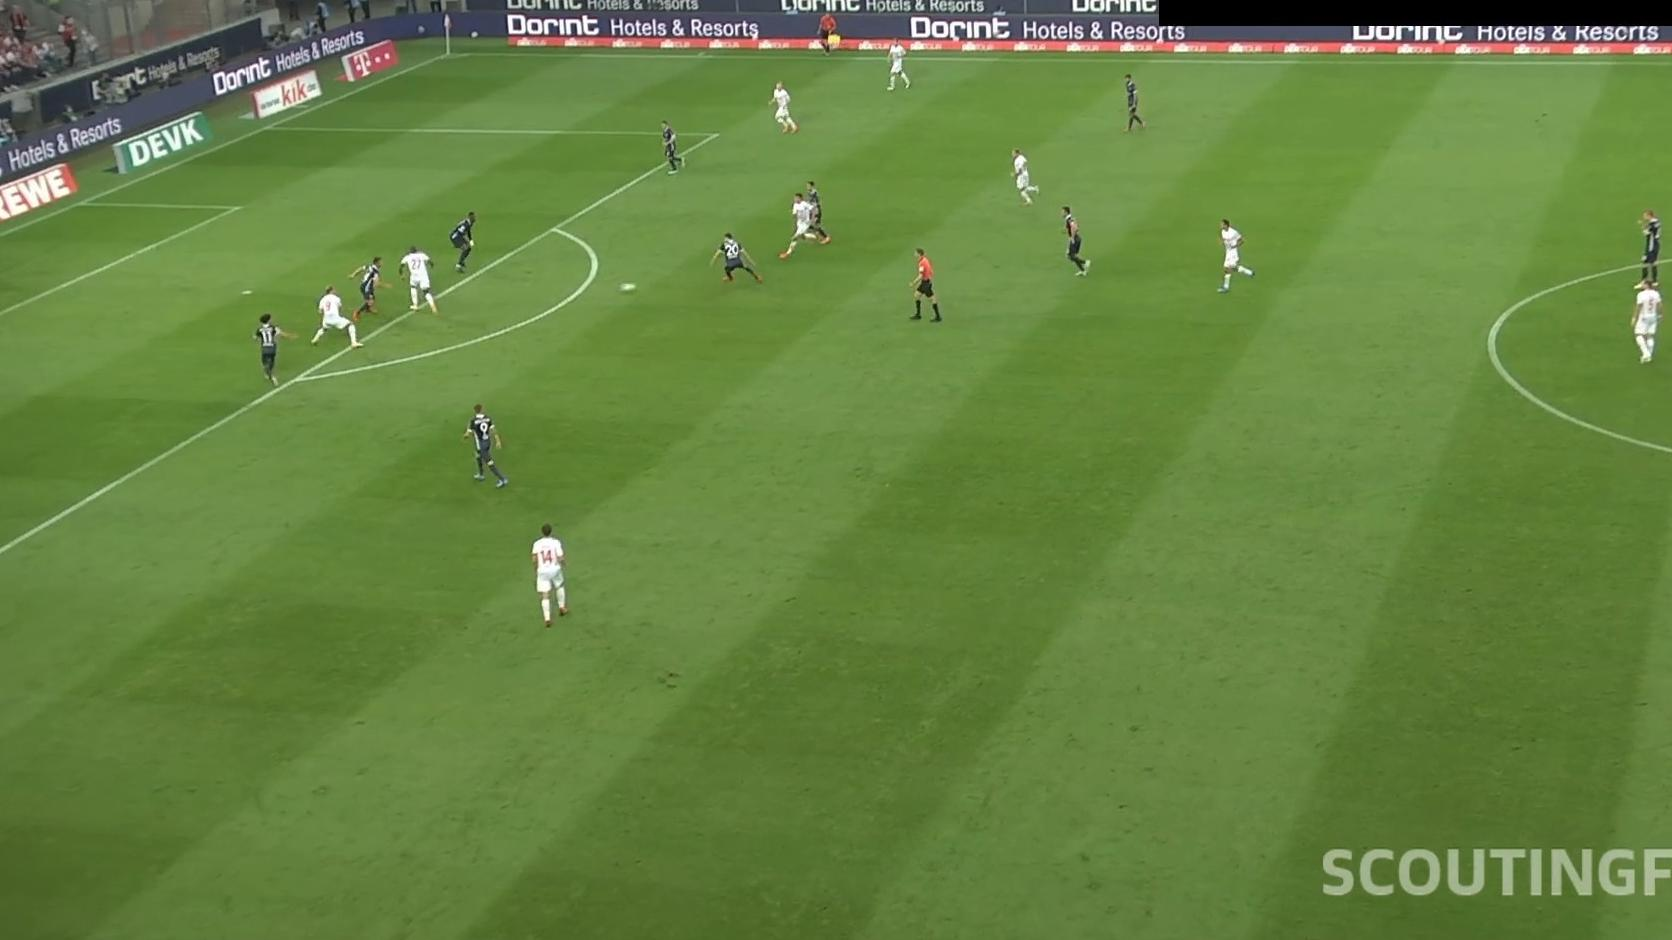ball: (616, 280, 637, 295)
